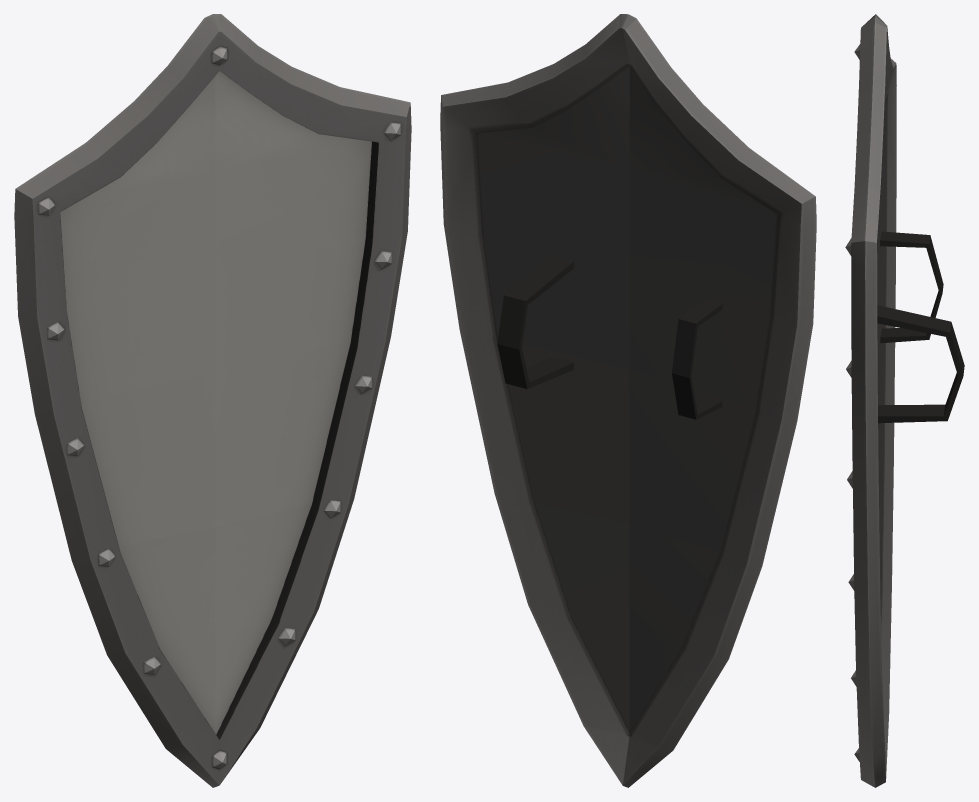
File: Knight_Shield.fbx
3 views of the same model, side by side, from view 1: azimuth 30°, elevation 25°; view 2: azimuth 150°, elevation 25°; view 3: azimuth 270°, elevation 25° (orthographic).
Visible parts, largest first — view 1: Shield_01; view 2: Shield_01; view 3: Shield_01.
Part boxes in pixels (<box>): Shield_01: <box>14,14,411,787</box>; Shield_01: <box>440,14,816,787</box>; Shield_01: <box>845,14,964,787</box>.
Bounding box in the file's own units: 0.4427 × 0.8461 × 0.1185.
